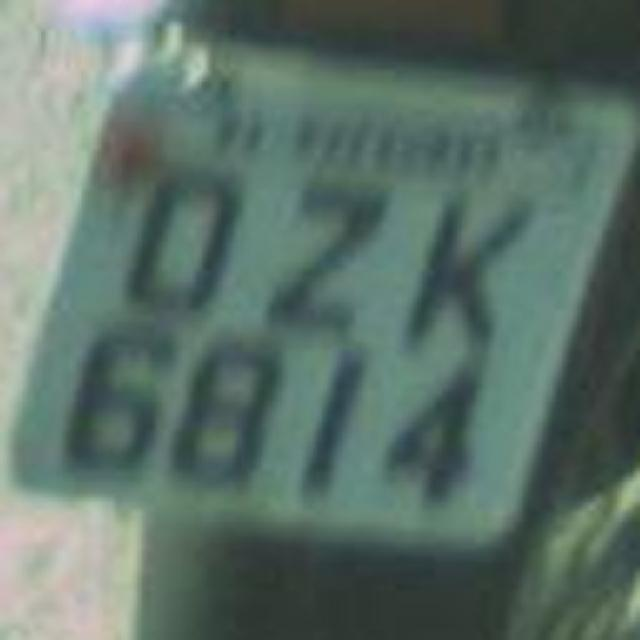1: (284, 340, 371, 495)
4: (369, 332, 496, 516)
6: (45, 300, 180, 495)
8: (160, 315, 300, 500)
K: (388, 176, 528, 364)
O: (108, 148, 252, 324)
Z: (252, 164, 392, 348)
